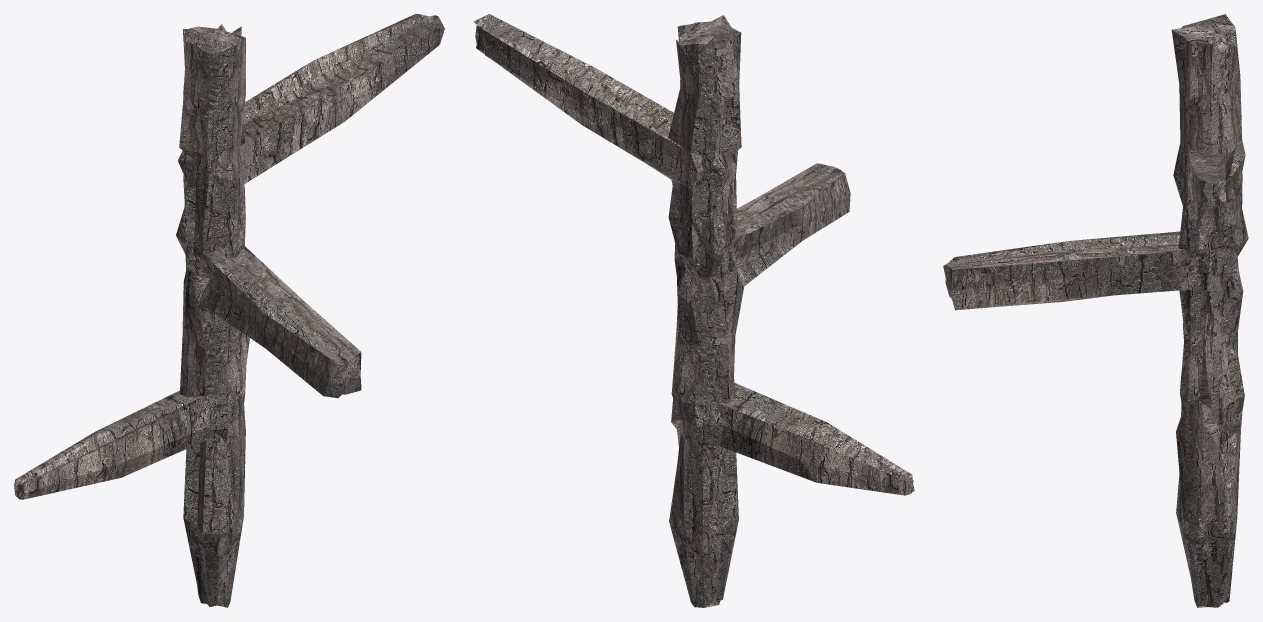
Rendered from branche.gltf.
3 renders of one model, left to right at view 1: azimuth 30°, elevation 25°; view 2: azimuth 150°, elevation 25°; view 3: azimuth 270°, elevation 25°, orthographic.
Visible parts, largest first — view 1: branche; view 2: branche; view 3: branche.
Part boxes in pixels (x1,y1,x2,y2): branche: [14, 14, 444, 607]; branche: [473, 14, 914, 607]; branche: [943, 14, 1248, 607].
Bounding box in the file's own units: 0.2383 × 0.3043 × 0.1456.
Materials: 1 (1 with a texture image).
